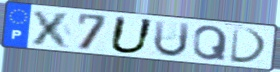7: (75, 12, 110, 52)
D: (229, 26, 270, 65)
Q: (192, 24, 230, 62)
U: (107, 15, 157, 56), (151, 19, 192, 59)
X: (28, 8, 74, 50)
